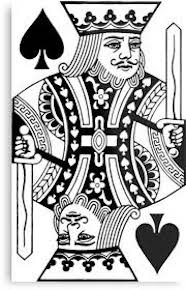KingOfSpades: (3, 1, 183, 284)
